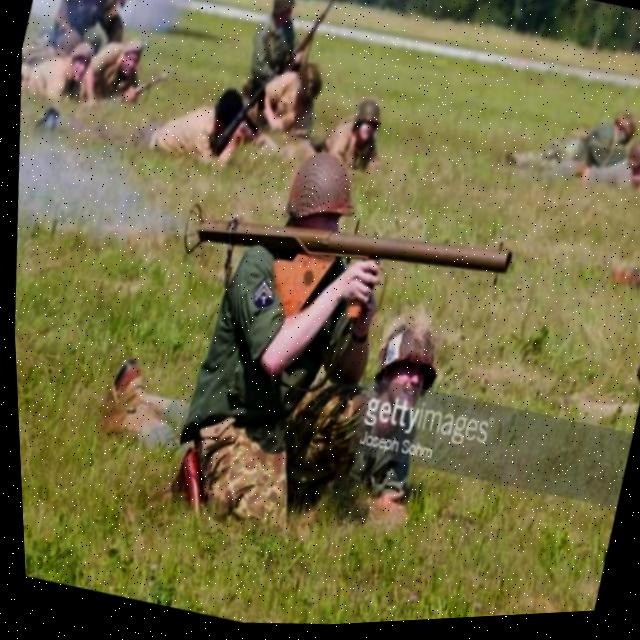rocket: (166, 163, 520, 344)
